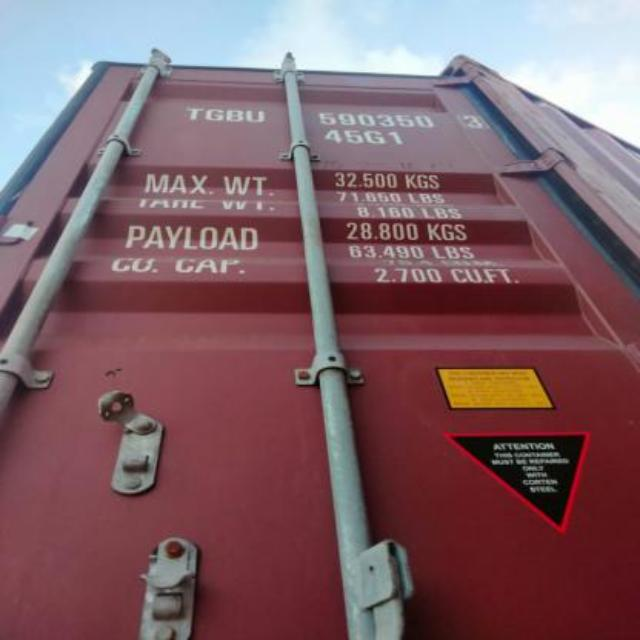0: (357, 108, 375, 128), (414, 110, 430, 132)
3: (457, 110, 487, 134), (378, 109, 396, 127)
5: (397, 108, 413, 128), (319, 109, 337, 125)
9: (337, 106, 358, 128)
B: (224, 102, 246, 130)
G: (206, 101, 222, 127)
T: (180, 100, 202, 128)
U: (246, 102, 262, 128)
